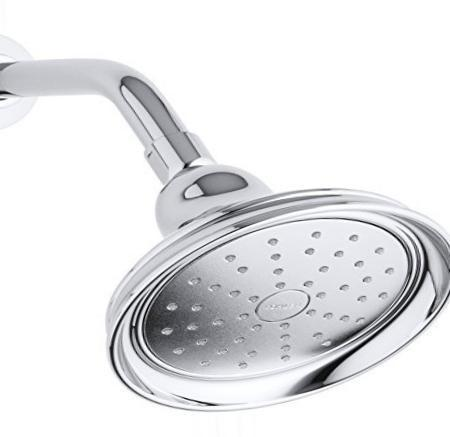Ducha: (0, 41, 449, 427)
